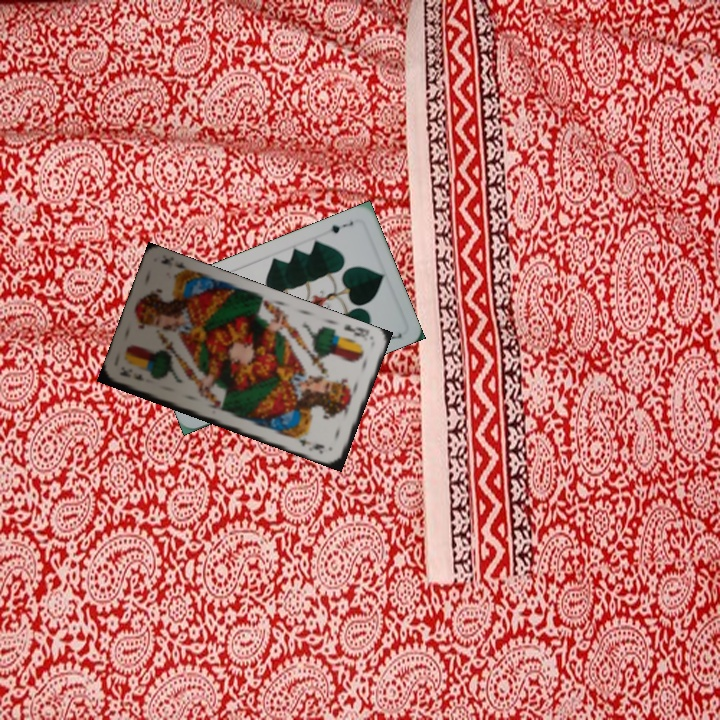EK: (340, 321, 371, 340), (116, 365, 146, 383)
G7: (321, 217, 356, 236)
